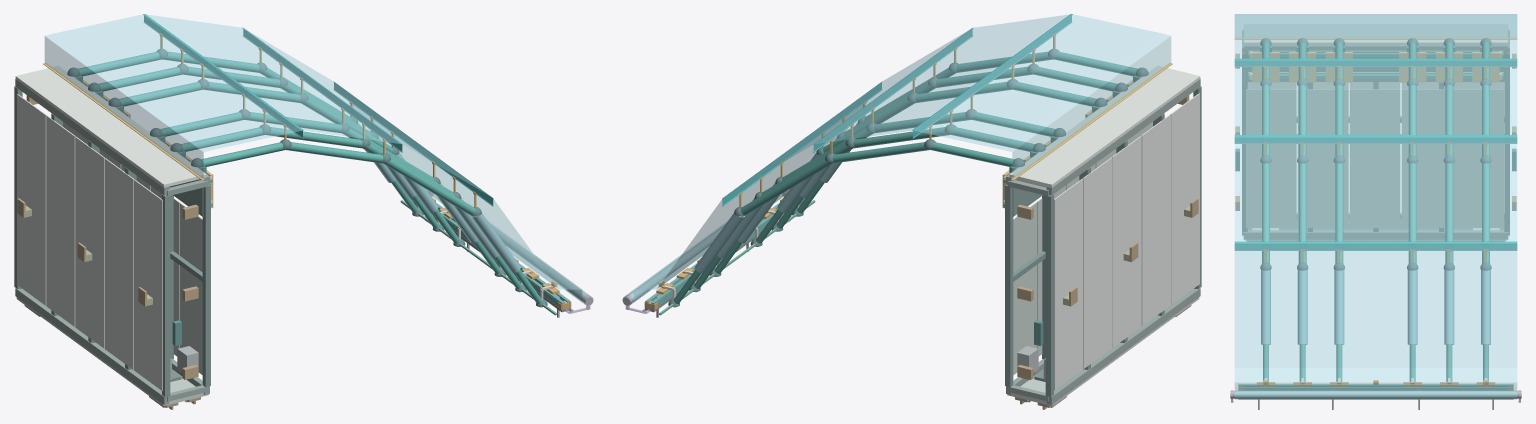
The model's file is 02_compensated.glb.
The picture shows the model from 3 angles, left to right: view 1: azimuth 30°, elevation 25°; view 2: azimuth 150°, elevation 25°; view 3: azimuth 270°, elevation 25°; orthographic projection. The views are drawn at different scales.
Visible parts, largest first — view 1: F04_CONTINUOUS_SINGLE_SHEET, M1_W01_P_wall_top_coping, M1_W01_P_outer_back_2, M1_W01_P_outer_back_4, M1_W01_P_outer_back_5, M1_W01_P_outer_back_1, M1_W01_P_outer_back_3, M1_W01_P_front_lower_1, M1_W01_F_long_0_0, M1_W01_F_post_1_0, M1_W01_F_post_0_0, F04_web3 (+24 smaller); view 2: F04_CONTINUOUS_SINGLE_SHEET, M1_W01_P_wall_top_coping, M1_W01_P_outer_back_2, M1_W01_P_outer_back_4, M1_W01_P_outer_back_5, M1_W01_P_outer_back_3, M1_W01_P_outer_back_1, M1_W01_P_front_lower_5, M1_W01_F_long_0_0, M1_W01_F_post_0_4, M1_W01_F_post_1_4, M1_W01_F_long_0_1 (+23 smaller); view 3: F04_CONTINUOUS_SINGLE_SHEET, M1_W01_P_front_lower_3, M1_W01_P_front_lower_1, M1_W01_P_front_lower_5, M1_W01_P_wall_top_coping, M1_W01_P_front_lower_4, M1_W01_P_front_lower_2, F04_front_roll_core, M1_W01_F_long_1_0, F04_web1, F04_web2, F04_web3 (+45 smaller).
Boxes of the visible parts, x1,y1,x2,y2 form: F04_CONTINUOUS_SINGLE_SHEET: [45, 14, 589, 303]; M1_W01_P_wall_top_coping: [15, 66, 206, 187]; M1_W01_P_outer_back_2: [104, 158, 133, 369]; M1_W01_P_outer_back_4: [46, 115, 75, 326]; M1_W01_P_outer_back_5: [17, 94, 46, 305]; M1_W01_P_outer_back_1: [133, 179, 162, 390]; M1_W01_P_outer_back_3: [75, 136, 104, 348]; M1_W01_P_front_lower_1: [179, 203, 202, 374]; M1_W01_F_long_0_0: [15, 288, 169, 404]; M1_W01_F_post_1_0: [202, 184, 210, 387]; M1_W01_F_post_0_0: [162, 194, 170, 396]; F04_web3: [334, 82, 493, 205]; F04_CONTINUOUS_SINGLE_SHEET: [626, 14, 1170, 303]; M1_W01_P_wall_top_coping: [1009, 66, 1200, 187]; M1_W01_P_outer_back_2: [1141, 114, 1170, 326]; M1_W01_P_outer_back_4: [1083, 157, 1112, 368]; M1_W01_P_outer_back_5: [1054, 178, 1083, 390]; M1_W01_P_outer_back_3: [1112, 136, 1141, 347]; M1_W01_P_outer_back_1: [1170, 93, 1199, 304]; M1_W01_P_front_lower_5: [1013, 202, 1037, 374]; M1_W01_F_long_0_0: [1046, 288, 1200, 404]; M1_W01_F_post_0_4: [1045, 194, 1053, 396]; M1_W01_F_post_1_4: [1005, 184, 1013, 387]; M1_W01_F_long_0_1: [1046, 79, 1200, 195]; F04_CONTINUOUS_SINGLE_SHEET: [1234, 14, 1517, 399]; M1_W01_P_front_lower_3: [1349, 89, 1400, 227]; M1_W01_P_front_lower_1: [1246, 89, 1296, 227]; M1_W01_P_front_lower_5: [1453, 89, 1503, 227]; M1_W01_P_wall_top_coping: [1244, 24, 1507, 45]; M1_W01_P_front_lower_4: [1401, 89, 1445, 227]; M1_W01_P_front_lower_2: [1297, 89, 1348, 227]; F04_front_roll_core: [1230, 391, 1521, 398]; M1_W01_F_long_1_0: [1243, 230, 1508, 239]; F04_web1: [1234, 60, 1517, 66]; F04_web2: [1234, 137, 1517, 142]; F04_web3: [1234, 245, 1517, 249].
Bounding box in the file's own units: 5.63 × 3.31 × 3.71.
